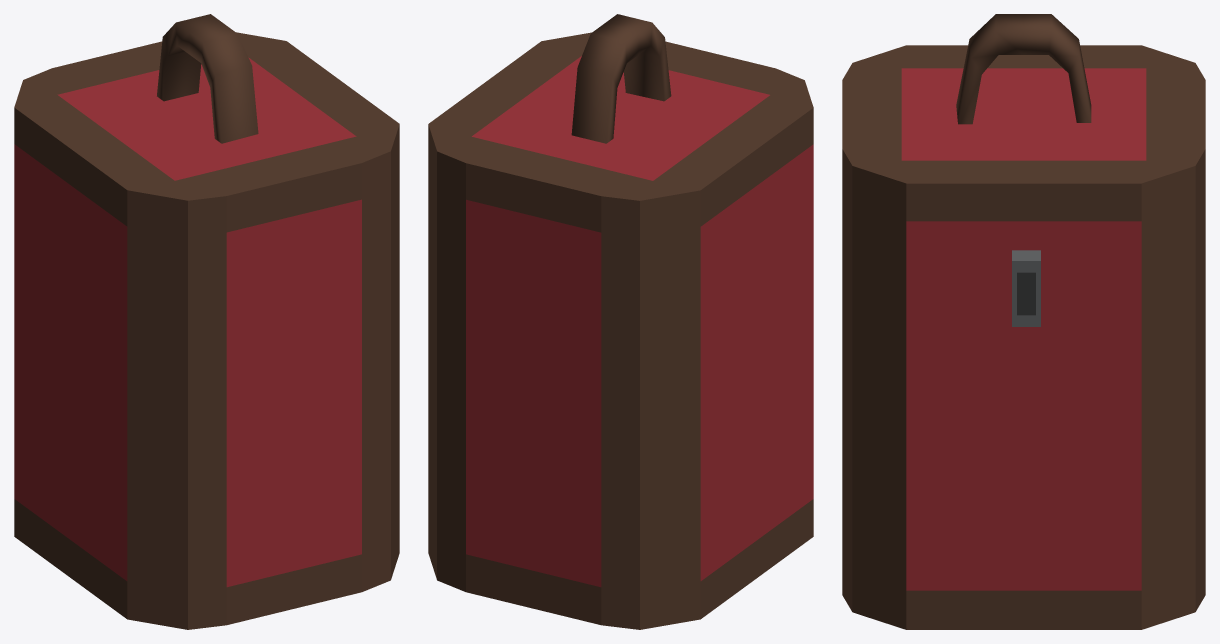
File: CarryCase_02.fbx
3 views of the same model, side by side, from view 1: azimuth 30°, elevation 25°; view 2: azimuth 150°, elevation 25°; view 3: azimuth 270°, elevation 25° (orthographic). The views are drawn at different scales.
Parts seen in each view (by area): view 1: CarryCase_02; view 2: CarryCase_02; view 3: CarryCase_02.
Boxes of the visible parts, bbox=[...] form: CarryCase_02: bbox=[14, 14, 399, 629]; CarryCase_02: bbox=[428, 14, 813, 629]; CarryCase_02: bbox=[842, 14, 1205, 629].
Bounding box in the file's own units: 0.2368 × 0.3989 × 0.2442.
